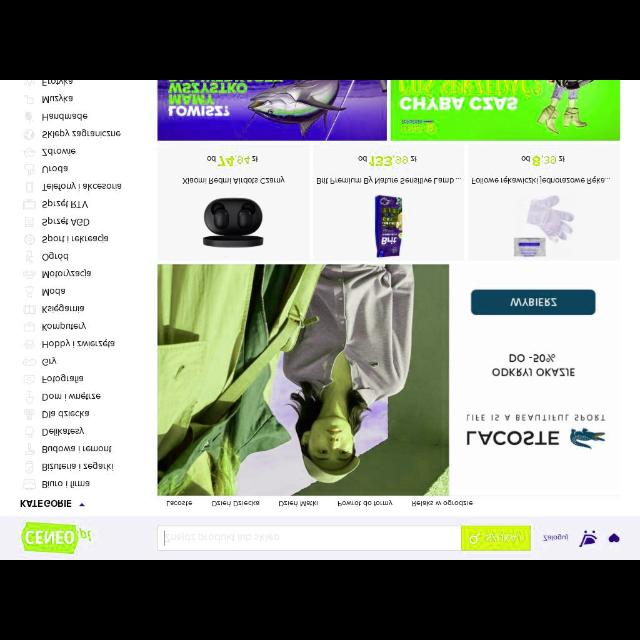icon: (579, 530, 597, 548), (469, 532, 481, 544), (24, 164, 36, 176), (22, 480, 36, 490), (24, 250, 34, 264), (608, 533, 620, 543), (25, 462, 35, 474), (24, 444, 36, 454), (24, 374, 34, 386), (24, 340, 36, 350), (24, 322, 36, 332), (24, 304, 36, 314), (25, 286, 35, 298), (24, 235, 36, 245), (24, 200, 36, 210), (22, 270, 36, 278), (23, 129, 34, 139), (24, 428, 34, 438), (24, 410, 34, 420), (24, 182, 34, 192), (24, 95, 34, 105), (26, 391, 34, 403), (24, 148, 36, 156), (22, 359, 36, 365), (26, 113, 34, 123), (25, 218, 33, 226), (24, 80, 34, 86), (79, 502, 85, 508)
image: (158, 264, 448, 496), (450, 265, 628, 495), (314, 144, 464, 262), (158, 146, 310, 262), (468, 145, 620, 261), (390, 80, 620, 140), (158, 80, 386, 140), (20, 522, 91, 554)
input: (157, 526, 461, 550)
panel: (18, 81, 156, 511)
text: (164, 530, 280, 546), (42, 462, 114, 471), (42, 339, 114, 348), (41, 182, 120, 190), (43, 130, 121, 138), (42, 234, 108, 243), (42, 446, 112, 454), (42, 392, 100, 401), (42, 217, 90, 226), (338, 500, 392, 508), (42, 426, 84, 436), (42, 304, 84, 314), (20, 499, 72, 507), (43, 374, 83, 384), (42, 322, 86, 331), (42, 270, 90, 278), (510, 298, 558, 306), (42, 200, 88, 208), (412, 501, 472, 507), (486, 534, 522, 542), (42, 482, 90, 488), (212, 501, 260, 507), (43, 412, 89, 418), (42, 114, 88, 120), (42, 148, 76, 156), (42, 95, 72, 104), (42, 252, 68, 262), (279, 501, 319, 507), (42, 166, 68, 174), (42, 288, 66, 296), (42, 80, 72, 86), (542, 535, 568, 541), (42, 356, 56, 366), (166, 502, 192, 506)
textbutton: (471, 290, 595, 314), (462, 526, 530, 550)
toolbar: (1, 518, 640, 560)
